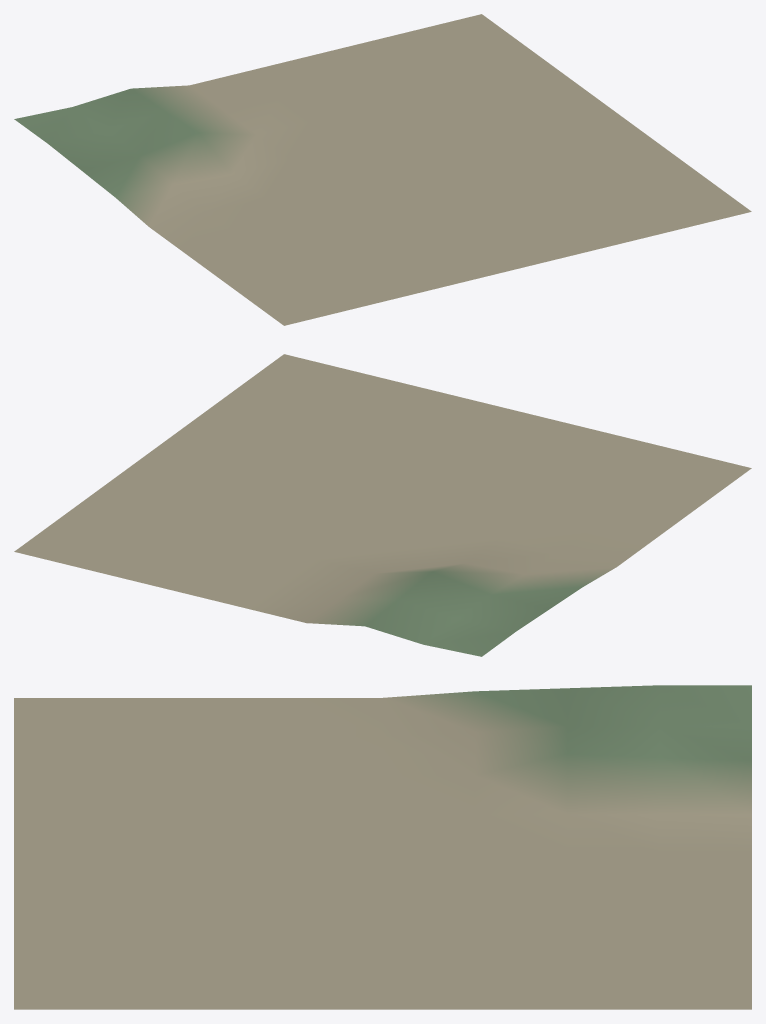
3 views of the same model, one above another, from view 1: azimuth 30°, elevation 25°; view 2: azimuth 150°, elevation 25°; view 3: azimuth 270°, elevation 25° (orthographic). The views are drawn at different scales.
Parts seen in each view (by area): view 1: Lo; view 2: Lo; view 3: Lo.
Boxes of the visible parts, x1,y1,x2,y2 form: Lo: (14,14,751,325); Lo: (14,354,751,656); Lo: (14,685,751,1009).
Bounding box in the file's own units: 256 × 8.47 × 256.
